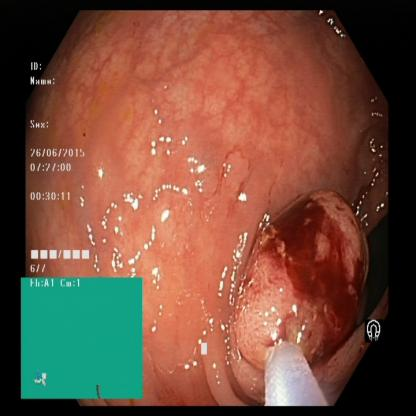Labels: (25, 58, 125, 277), (19, 276, 146, 398)
Polyps: (230, 181, 362, 350)
